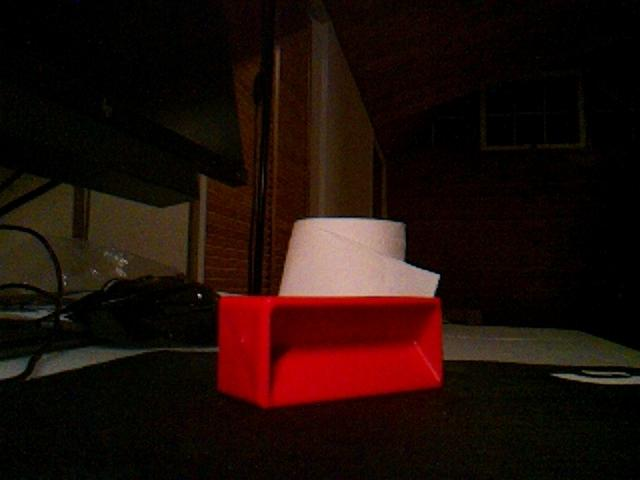red: (216, 294, 446, 410)
